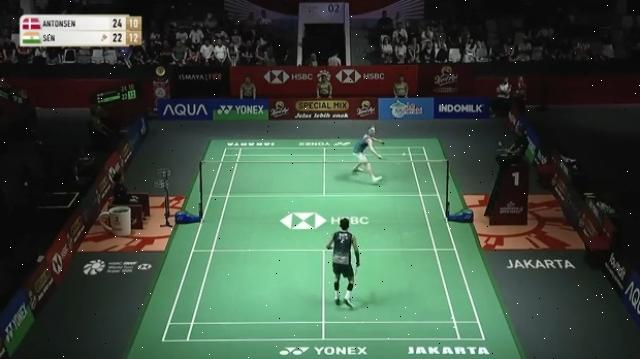Shuttlecock: (400, 150, 408, 158)
